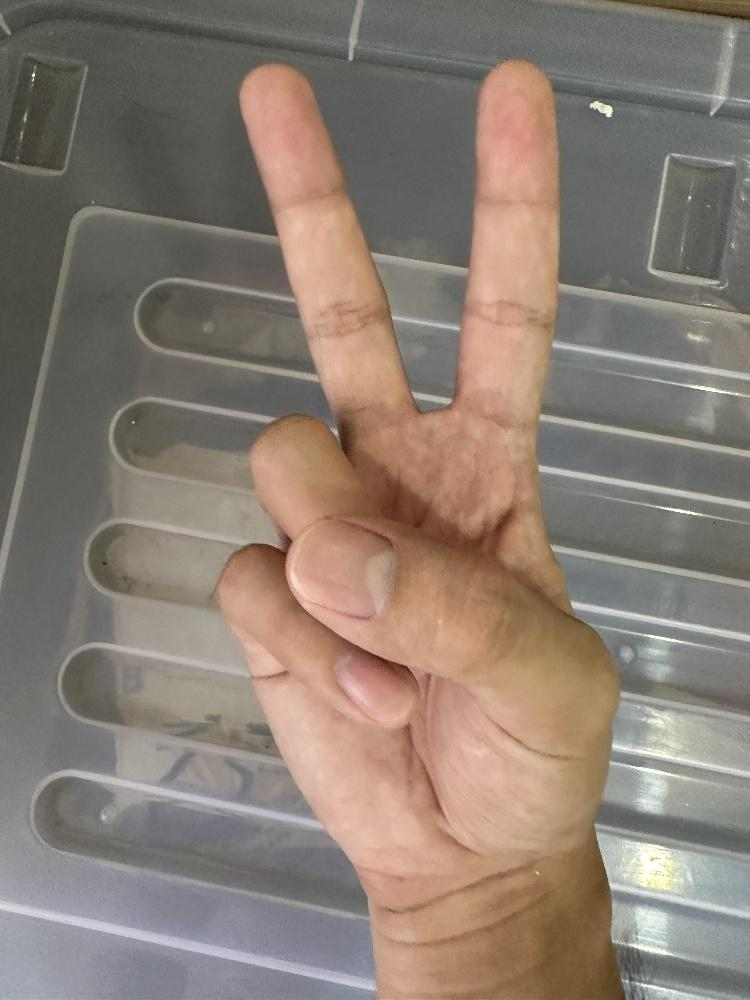v: (212, 55, 624, 905)
